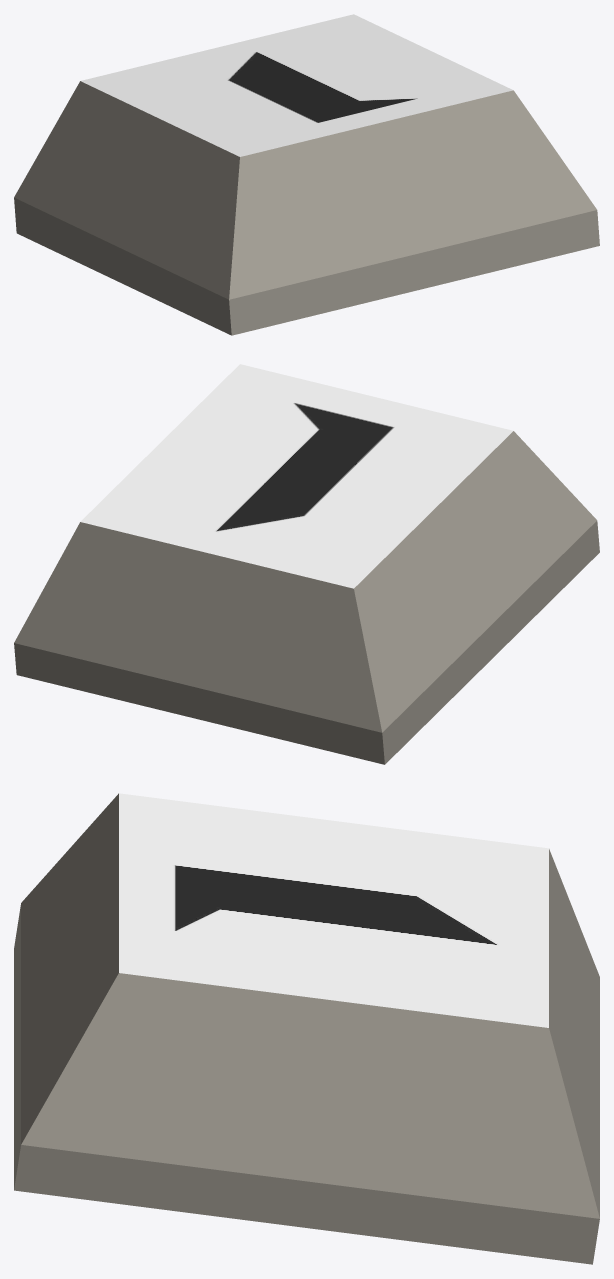
File: key1.glb
The picture shows the model from 3 angles, top to bottom: view 1: azimuth 30°, elevation 25°; view 2: azimuth 150°, elevation 25°; view 3: azimuth 270°, elevation 25°; orthographic projection. The views are drawn at different scales.
Visible parts, largest first — view 1: Cube.001; view 2: Cube.001; view 3: Cube.001.
Boxes of the visible parts, x1,y1,x2,y2 form: Cube.001: (14,14,599,335); Cube.001: (14,364,599,764); Cube.001: (14,793,599,1264).
Bounding box in the file's own units: 0.1926 × 0.0968 × 0.1972.
2 materials, 1 textured.
